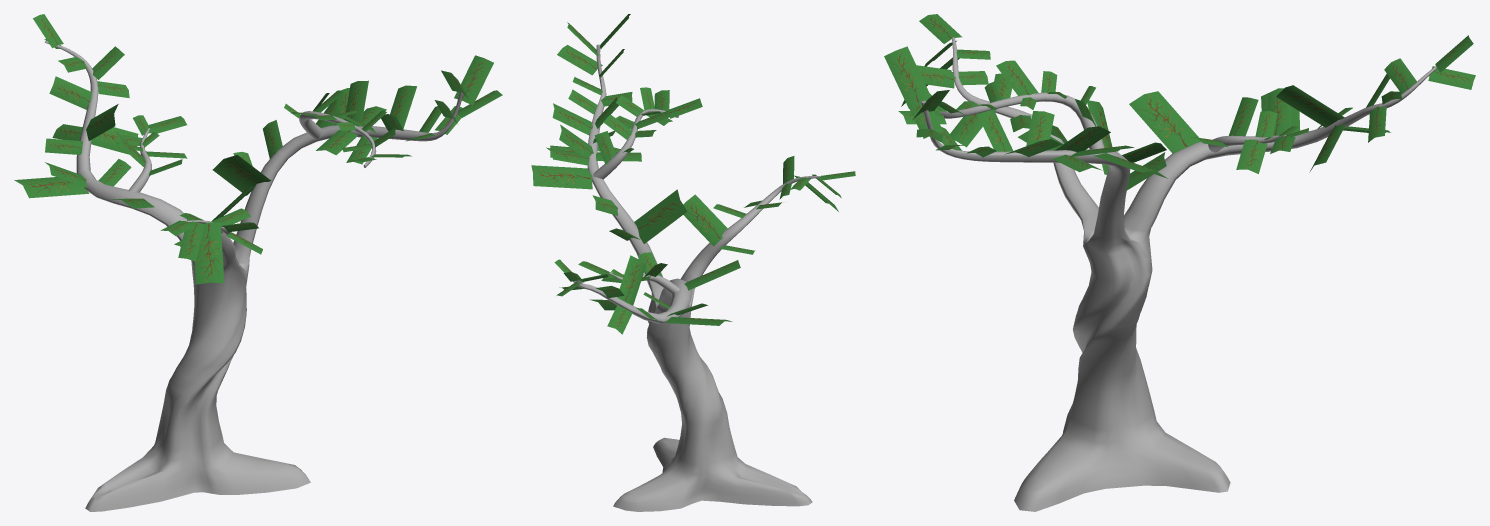
The model's file is F_Tree.fbx.
3 views of the same model, side by side, from view 1: azimuth 30°, elevation 25°; view 2: azimuth 150°, elevation 25°; view 3: azimuth 270°, elevation 25° (orthographic). The views are drawn at different scales.
Visible parts, largest first — view 1: F_Tree1, branch_133; view 2: F_Tree1, branch_133; view 3: F_Tree1, branch_133.
Boxes of the visible parts, left/top/right/bottom form: F_Tree1: left=44, top=40, right=463, bottom=511; branch_133: left=14, top=14, right=502, bottom=284; F_Tree1: left=573, top=44, right=820, bottom=511; branch_133: left=531, top=14, right=855, bottom=334; F_Tree1: left=920, top=37, right=1437, bottom=511; branch_133: left=884, top=14, right=1475, bottom=190.
Size of the model in its own units: 1480 by 1740 by 1821.
2 materials, 1 textured.
